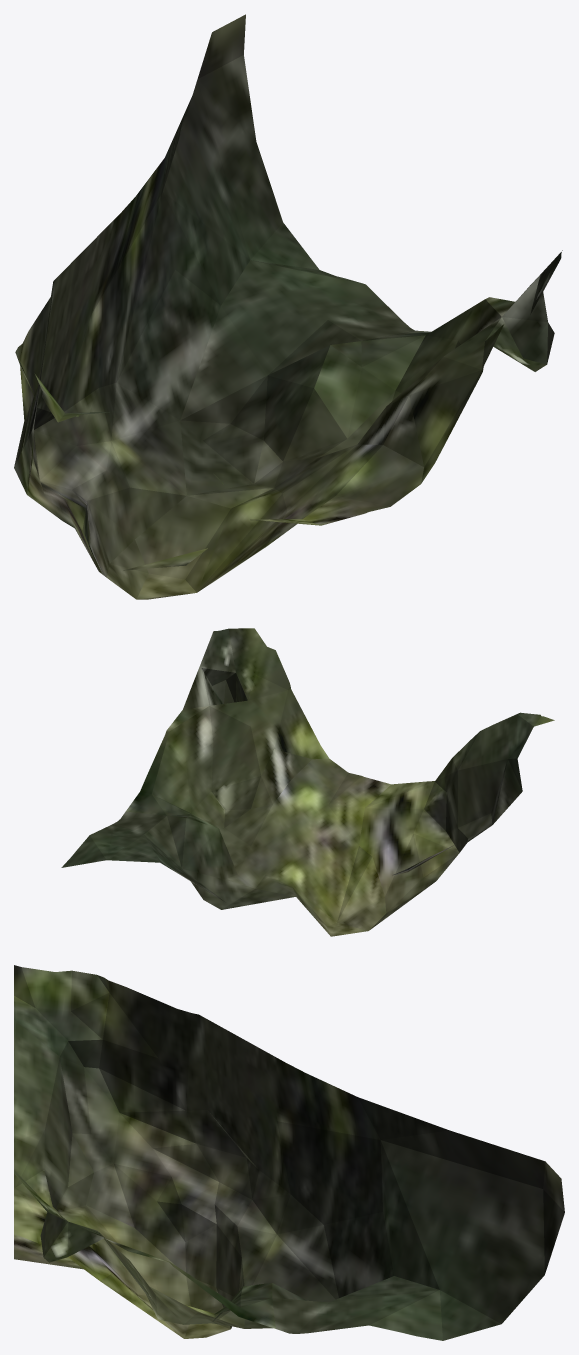
The picture shows the model from 3 angles, top to bottom: view 1: azimuth 30°, elevation 25°; view 2: azimuth 150°, elevation 25°; view 3: azimuth 270°, elevation 25°; orthographic projection. The views are drawn at different scales.
Size of the model in its own units: 1.36 by 0.8059 by 1.48.
Materials: 1 (1 with a texture image).
